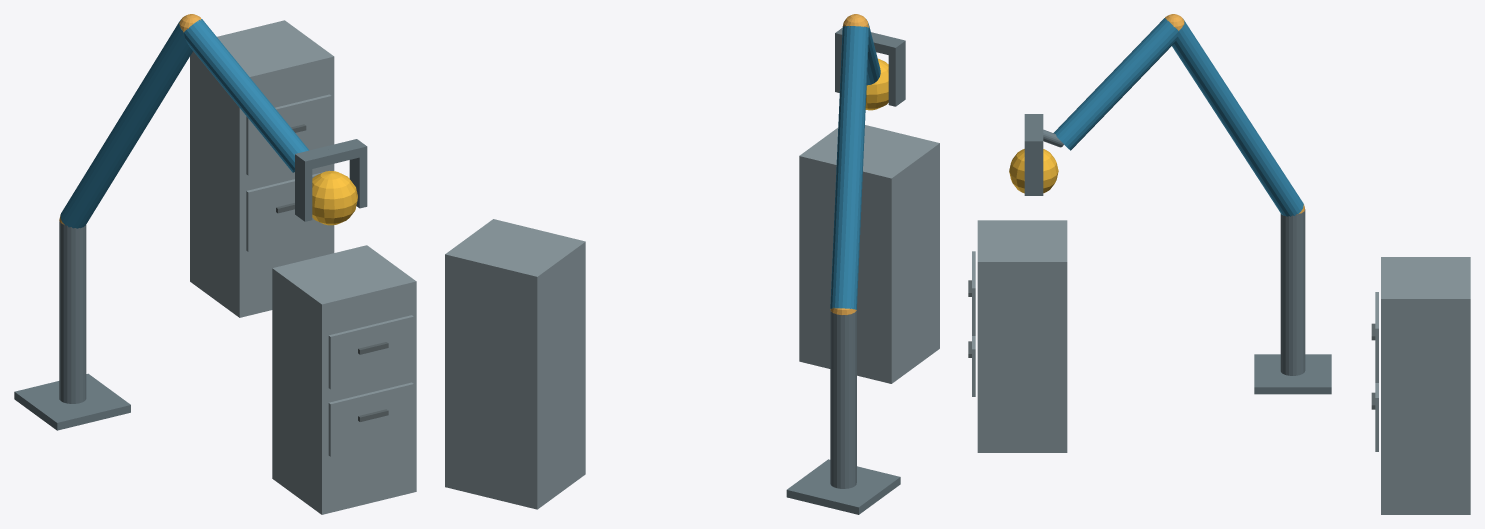
The picture shows the model from 3 angles, left to right: view 1: azimuth 30°, elevation 25°; view 2: azimuth 150°, elevation 25°; view 3: azimuth 270°, elevation 25°; orthographic projection. The views are drawn at different scales.
Parts seen in each view (by area): view 1: cabinet_1 body, cabinet_2 body, moving link 1, fixed post, moving link 2, cabinet_1 drawer front.001, cabinet_1 drawer front, cabinet_2 drawer front, pedestal, cabinet_2 drawer front.001, ball ball_1, gripper bridge (+2 smaller); view 2: cabinet_2 body, cabinet_1 body, moving link 1, fixed post, pedestal, gripper finger -1, ball ball_1, gripper bridge; view 3: cabinet_2 body, cabinet_1 body, moving link 1, fixed post, moving link 2, pedestal, ball ball_1, gripper finger 1, gripper bridge.
Boxes of the visible parts, x1=… form: cabinet_1 body: x1=272, y1=245, x2=416, y2=514; cabinet_2 body: x1=190, y1=20, x2=334, y2=317; moving link 1: x1=60, y1=20, x2=192, y2=228; fixed post: x1=59, y1=221, x2=86, y2=403; moving link 2: x1=184, y1=19, x2=309, y2=172; cabinet_1 drawer front.001: x1=328, y1=315, x2=413, y2=389; cabinet_1 drawer front: x1=328, y1=382, x2=413, y2=456; cabinet_2 drawer front: x1=246, y1=170, x2=331, y2=251; pedestal: x1=14, y1=373, x2=130, y2=430; cabinet_2 drawer front.001: x1=246, y1=94, x2=331, y2=175; ball ball_1: x1=312, y1=171, x2=357, y2=225; gripper bridge: x1=295, y1=139, x2=367, y2=170; cabinet_2 body: x1=445, y1=219, x2=585, y2=509; cabinet_1 body: x1=799, y1=125, x2=939, y2=383; moving link 1: x1=830, y1=26, x2=869, y2=309; fixed post: x1=830, y1=310, x2=856, y2=488; pedestal: x1=786, y1=459, x2=900, y2=514; gripper finger -1: x1=888, y1=50, x2=905, y2=106; ball ball_1: x1=865, y1=58, x2=888, y2=110; gripper bridge: x1=835, y1=28, x2=905, y2=56; cabinet_2 body: x1=1381, y1=257, x2=1470, y2=514; cabinet_1 body: x1=977, y1=220, x2=1067, y2=452; moving link 1: x1=1172, y1=19, x2=1303, y2=216; fixed post: x1=1280, y1=210, x2=1305, y2=375; moving link 2: x1=1053, y1=18, x2=1178, y2=150; pedestal: x1=1254, y1=354, x2=1331, y2=394; ball ball_1: x1=1009, y1=149, x2=1058, y2=193; gripper finger 1: x1=1024, y1=149, x2=1043, y2=195; gripper bridge: x1=1024, y1=114, x2=1043, y2=149.
Size of the model in its own units: 1.17 by 1.38 by 1.62.
